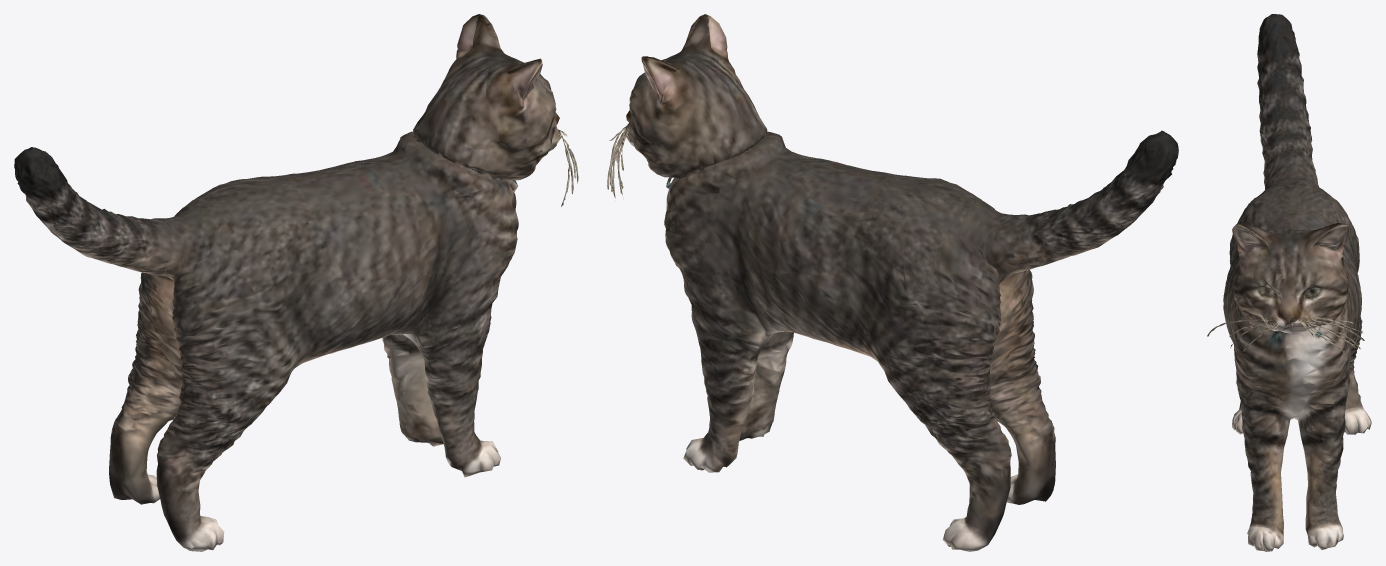
Rendered from THINKTHINK.glb.
3 renders of one model, left to right at view 1: azimuth 30°, elevation 25°; view 2: azimuth 150°, elevation 25°; view 3: azimuth 270°, elevation 25°, orthographic. The views are drawn at different scales.
Parts seen in each view (by area): view 1: tripo_node_3aff749a-fc1e-433d-91e1-e513fbf3a229; view 2: tripo_node_3aff749a-fc1e-433d-91e1-e513fbf3a229; view 3: tripo_node_3aff749a-fc1e-433d-91e1-e513fbf3a229.
Boxes of the visible parts, x1,y1,x2,y2 form: tripo_node_3aff749a-fc1e-433d-91e1-e513fbf3a229: [14, 14, 578, 551]; tripo_node_3aff749a-fc1e-433d-91e1-e513fbf3a229: [607, 14, 1178, 551]; tripo_node_3aff749a-fc1e-433d-91e1-e513fbf3a229: [1207, 14, 1371, 551].
Size of the model in its own units: 1.37 by 0.9986 by 0.4232.
Materials: 1 (1 with a texture image).
